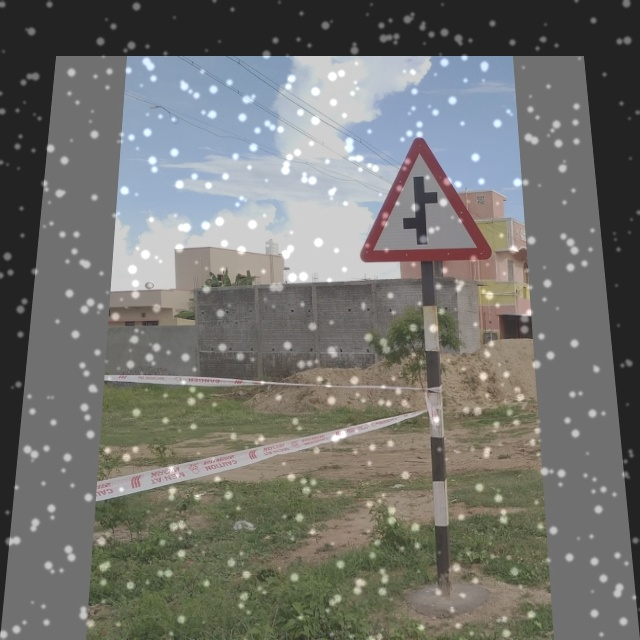Staggered_Intersection: (363, 128, 495, 261)
